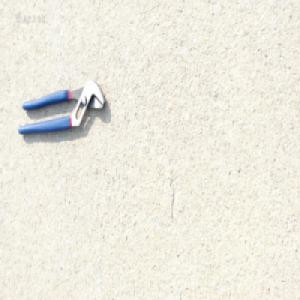Pliers: (17, 77, 107, 135)
